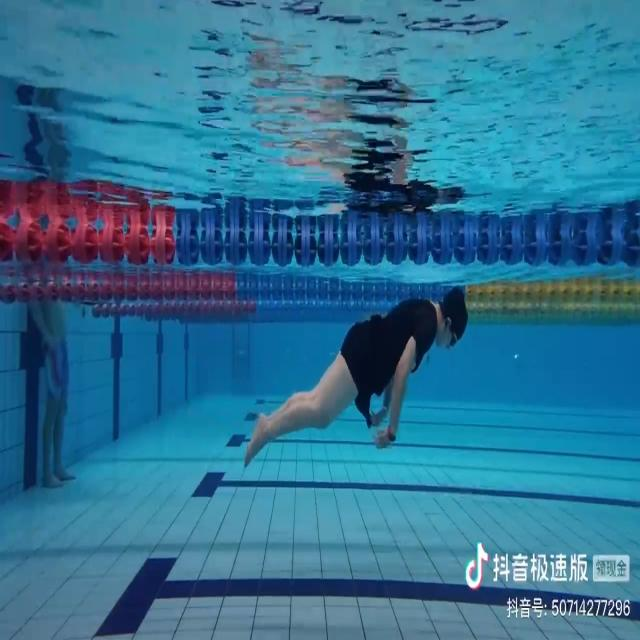Swimming: (245, 286, 469, 468)
